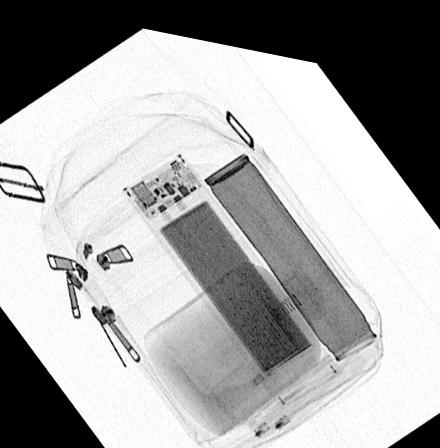Powerbank: (117, 140, 342, 400)
